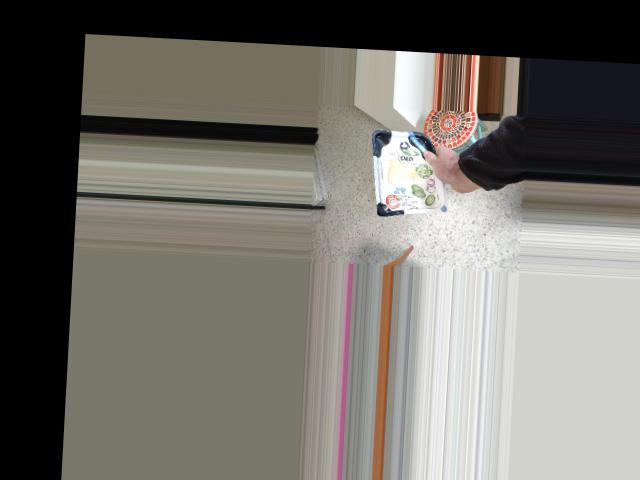cheese: (392, 142, 462, 219)
